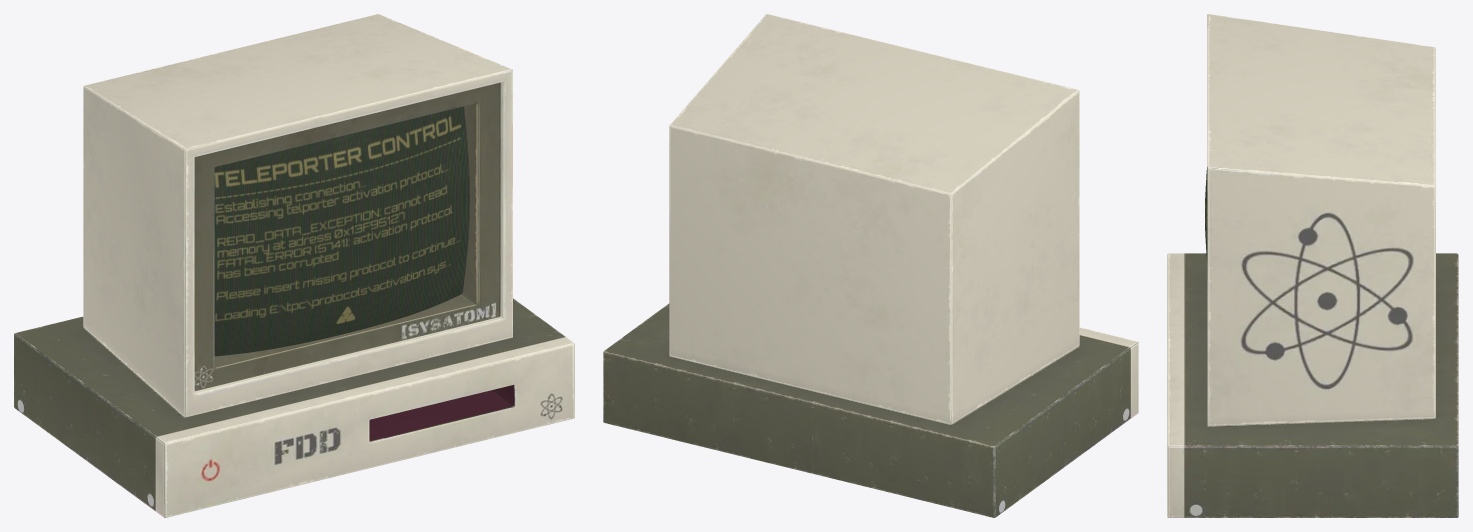
File: retro_computer-atom.glb
3 views of the same model, side by side, from view 1: azimuth 30°, elevation 25°; view 2: azimuth 150°, elevation 25°; view 3: azimuth 270°, elevation 25° (orthographic). The views are drawn at different scales.
Visible parts, largest first — view 1: defaultMaterial (×2); view 2: defaultMaterial; view 3: defaultMaterial.
Part boxes in pixels (bbox=[...]): defaultMaterial (×2): bbox=[14, 14, 574, 517]; defaultMaterial: bbox=[603, 14, 1138, 517]; defaultMaterial: bbox=[1167, 14, 1458, 517].
Size of the model in its own units: 1.11 by 0.8884 by 0.7083.
Materials: 2 (2 with a texture image).
